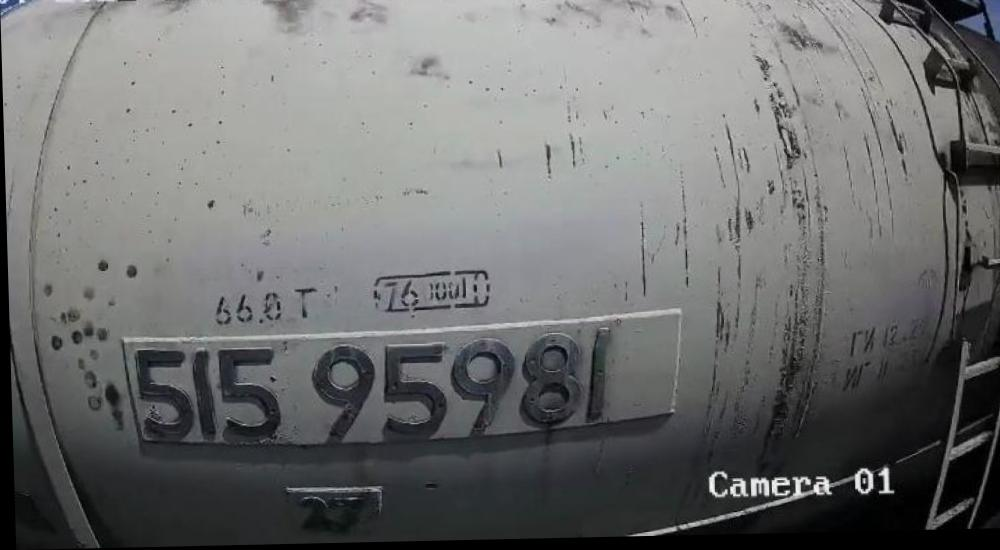Wagon-number: (122, 324, 626, 452)
